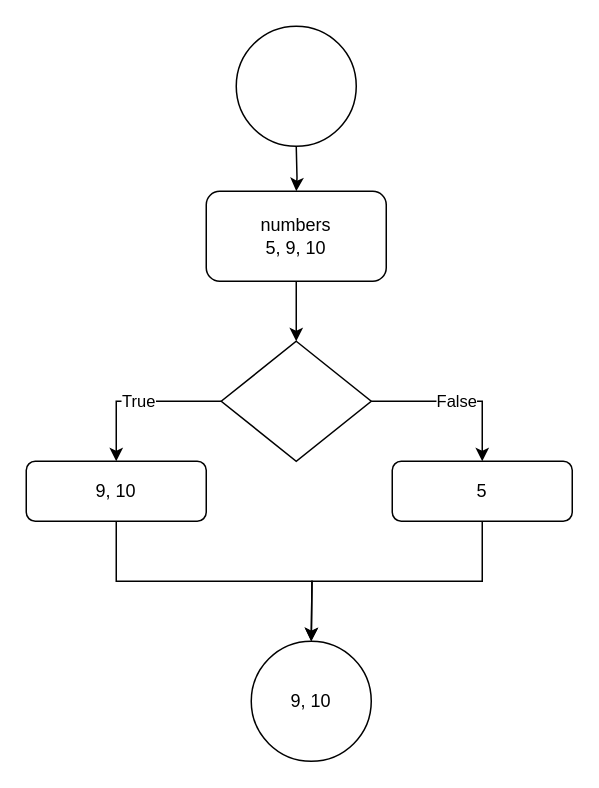
Image size: 599x788. Some labels were removed from this diagram. The centre of each missing label's shape, as x and y in pixels:
"number > 6" belongs at (295,400).
"Start" belongs at (295,85).
